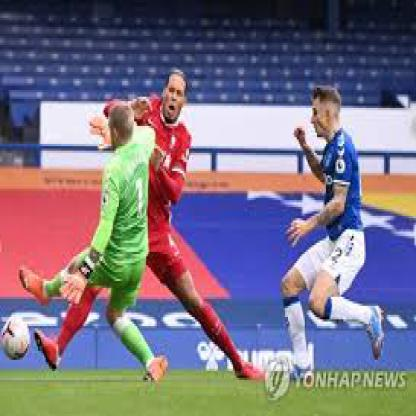Fall_Down: (14, 104, 169, 391)
